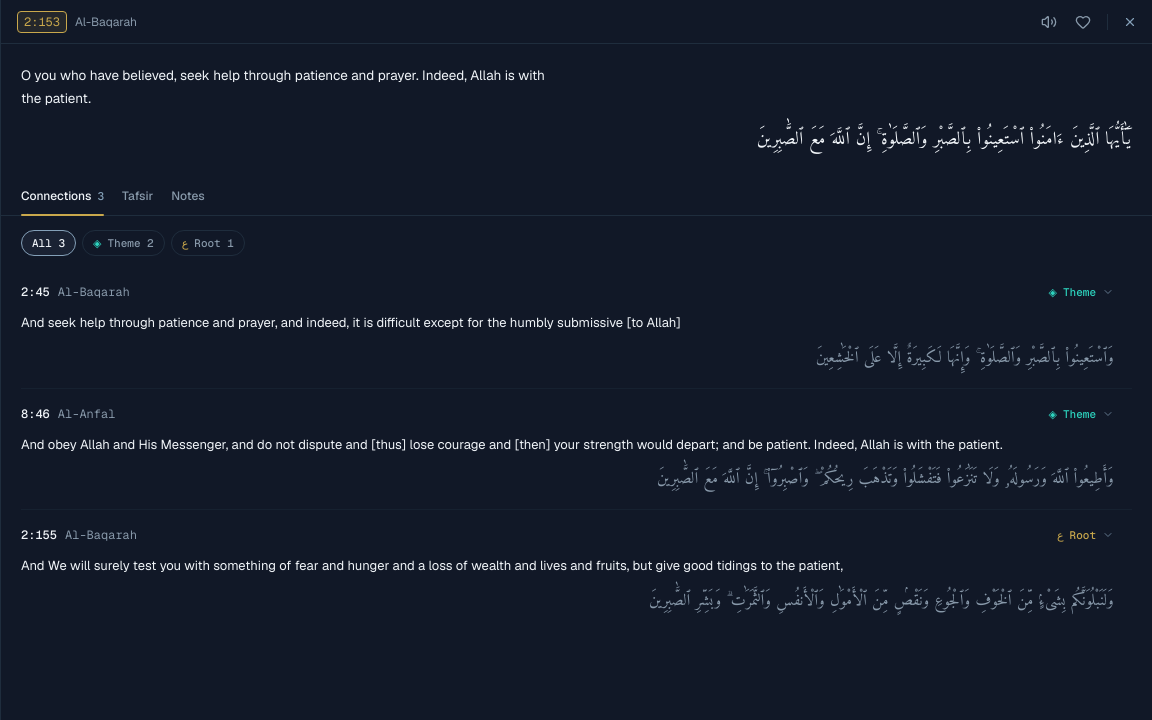
Test case: ContextSidebar — reading views › keeps Previous / Next inside the kind filter the reader chose
Click the button "◈ Theme 2".
click(123, 243)  # box [82,230,165,256]
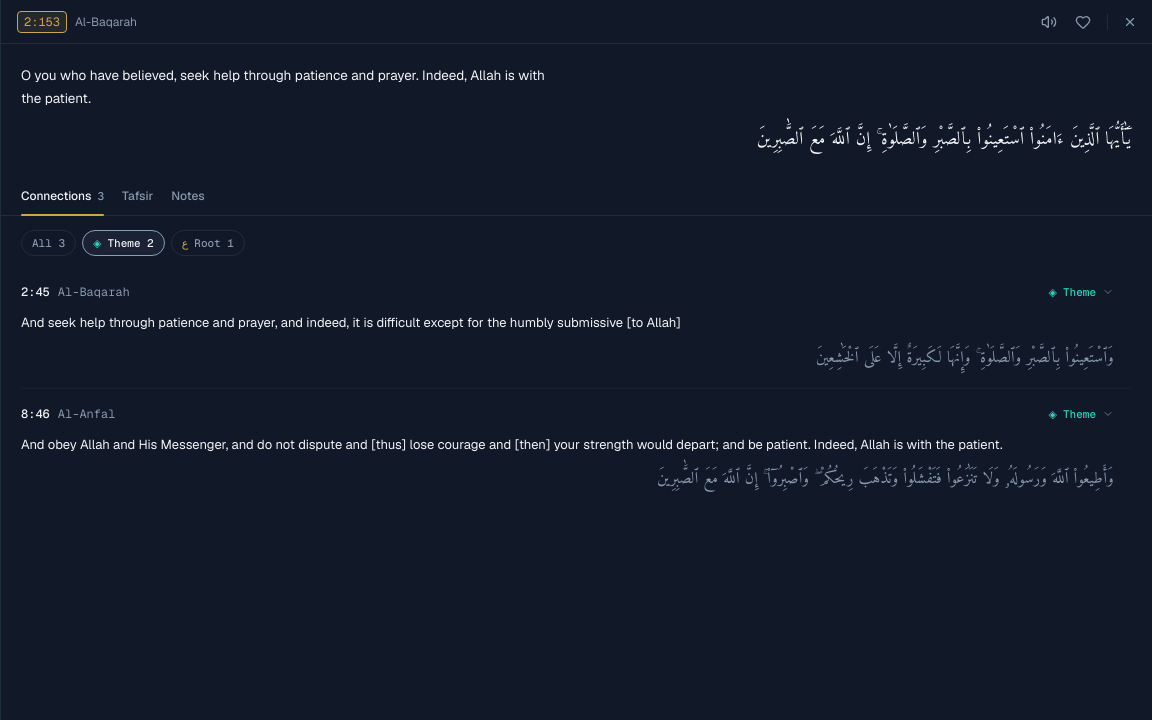
Click the button with aria-label "Read 2:153 and 2:45 together".
click(75, 292)  # box [21,284,130,300]
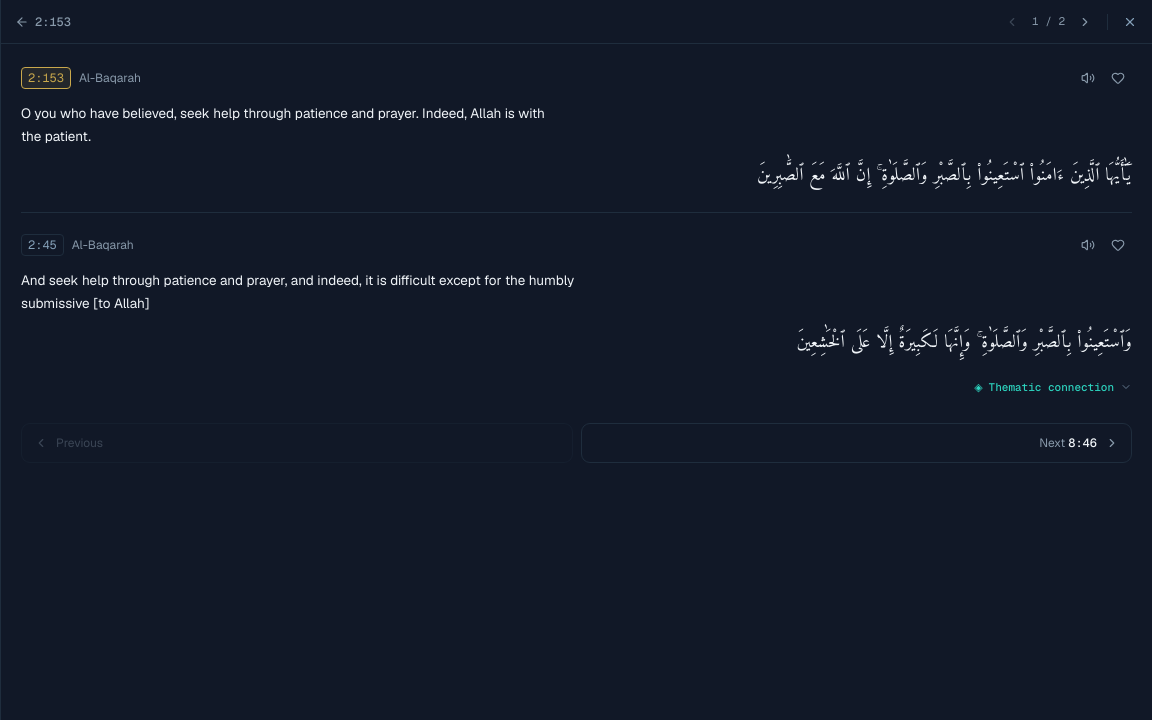
expect the text "1 / 2" is shown: met, box [1032,14,1065,28]
Click the button named "Next connection".
click(1085, 22)  # box [1071,8,1099,36]
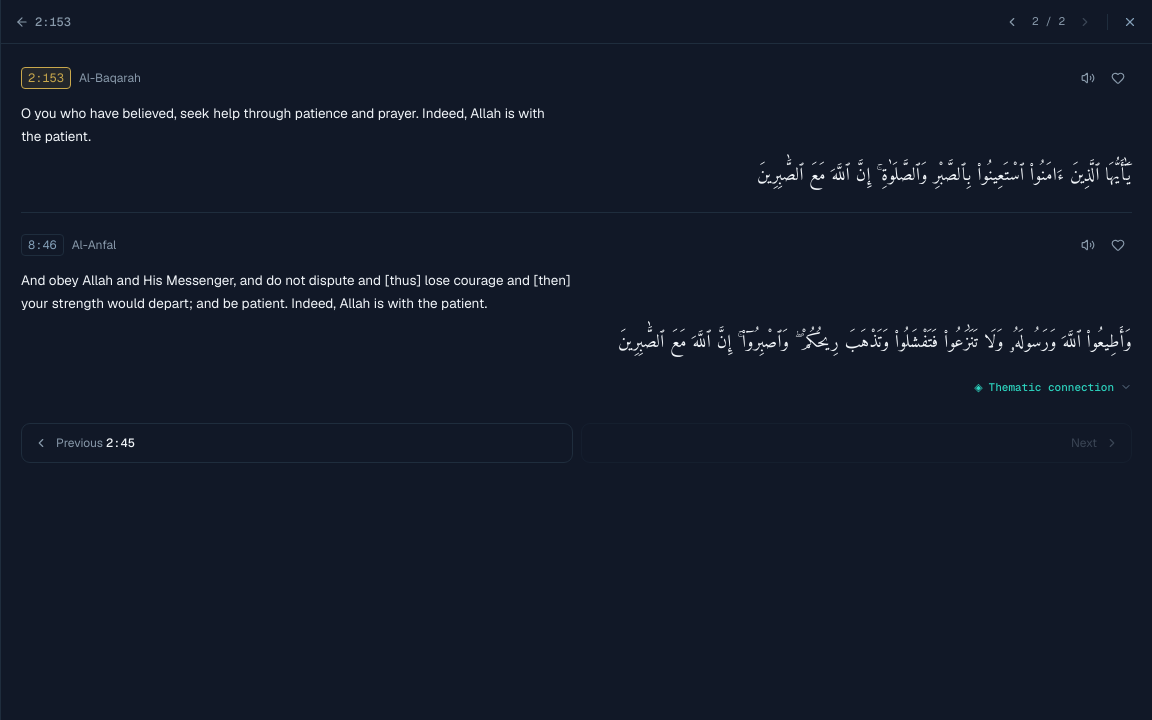
expect the text "And obey Allah and His Messenger, and do not dispute and [thus] lose courage and [then] your strength would depart; and " is shown: met, box [21,271,571,312]
